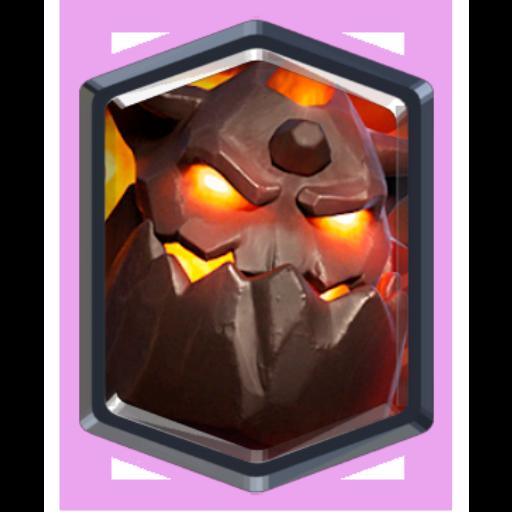lava-hound: (100, 58, 412, 446)
